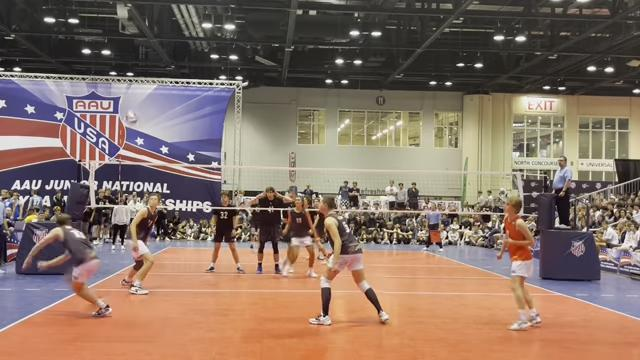ricezione: (22, 213, 120, 318)
